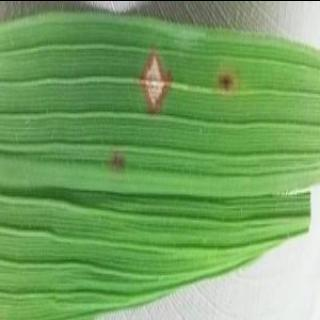Blast: (132, 50, 180, 114)
